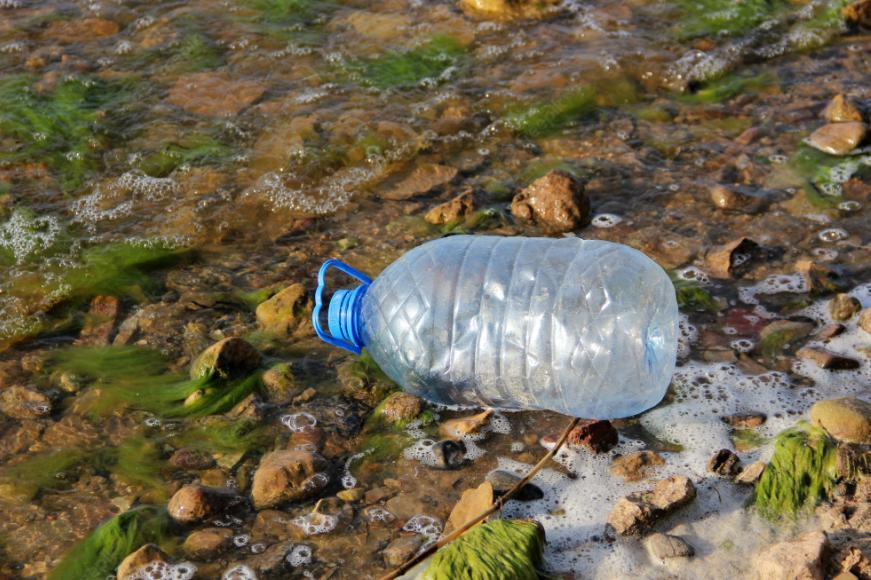bottle: (300, 225, 687, 445)
